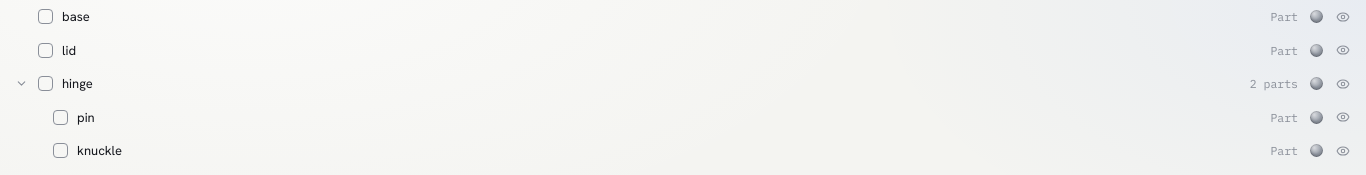
Test: AssemblyTree › collapsing a group hides its children rows
Expected: the text "pin" is shown, [77, 108, 95, 127]
Step 1. Click the button named "Collapse hinge" → {"x": 22, "y": 84}, box [14, 76, 29, 91]
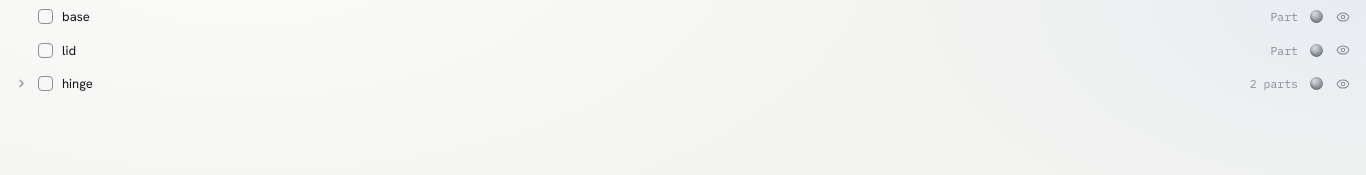
Expected: the button "pin" is gone
Note: Re-expand restores them.
Step 2. Click the button named "Expand hinge" → {"x": 22, "y": 84}, box [14, 76, 29, 91]
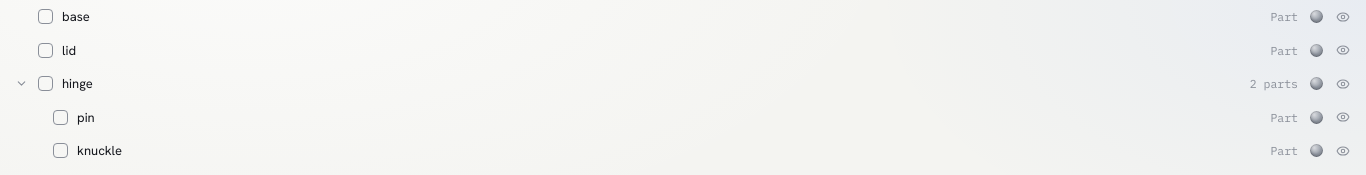
Expected: the text "pin" is shown, [77, 108, 95, 127]
